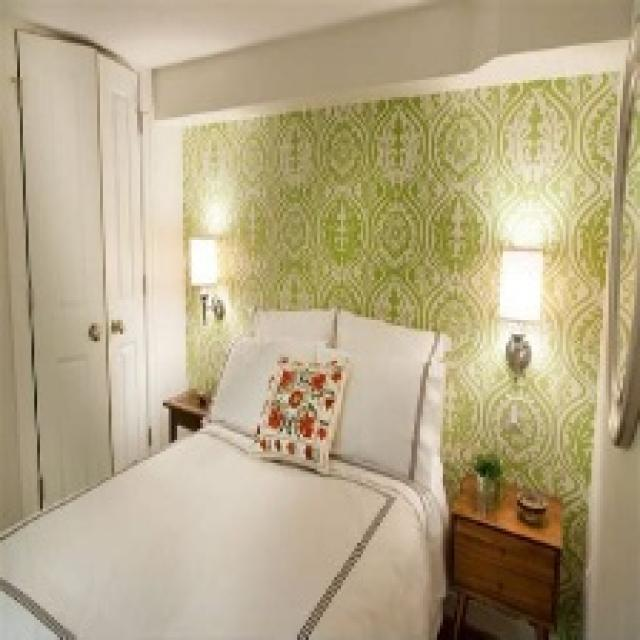Bed: (0, 302, 451, 637)
